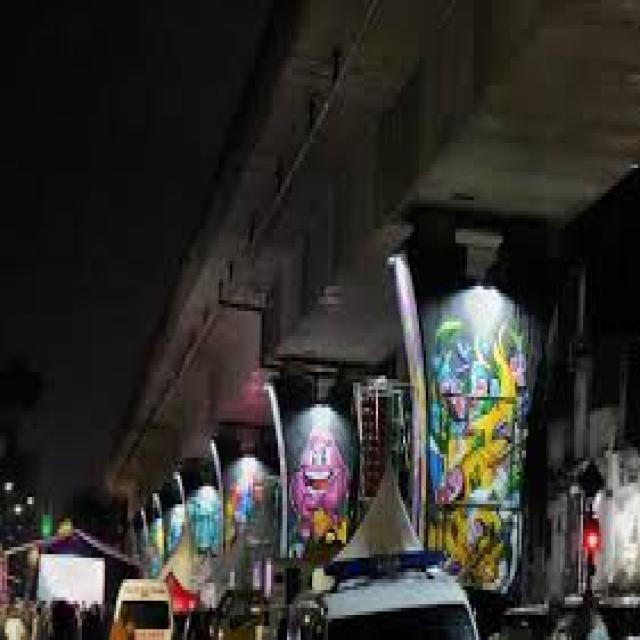-: (424, 307, 532, 592), (288, 424, 350, 558), (221, 470, 267, 560), (185, 498, 221, 556)
